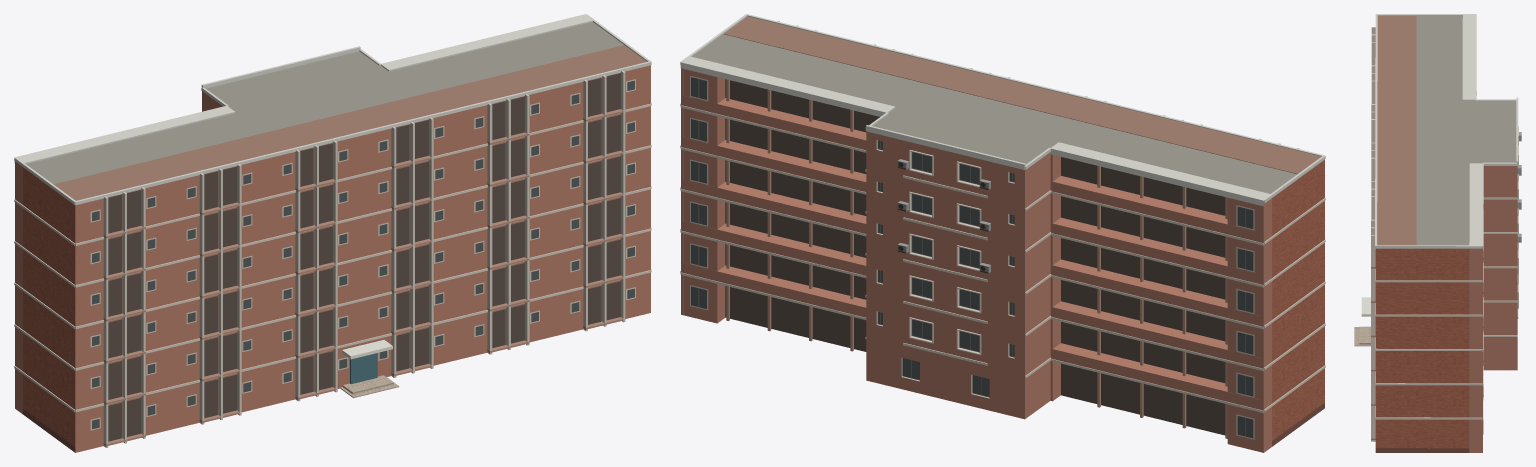
The model's file is chunk-dorm-way-759129517.glb.
3 renders of one model, left to right at view 1: azimuth 30°, elevation 25°; view 2: azimuth 150°, elevation 25°; view 3: azimuth 270°, elevation 25°, orthographic. The views are drawn at different scales.
Visible parts, largest first — view 1: chunk-dorm-way-759129517; view 2: chunk-dorm-way-759129517; view 3: chunk-dorm-way-759129517.
Part boxes in pixels (x1,y1,x2,y2): chunk-dorm-way-759129517: [14, 14, 651, 452]; chunk-dorm-way-759129517: [680, 14, 1325, 452]; chunk-dorm-way-759129517: [1354, 14, 1521, 452].
Size of the model in its own units: 47.91 by 20.12 by 14.62.
16 materials, 3 textured.
